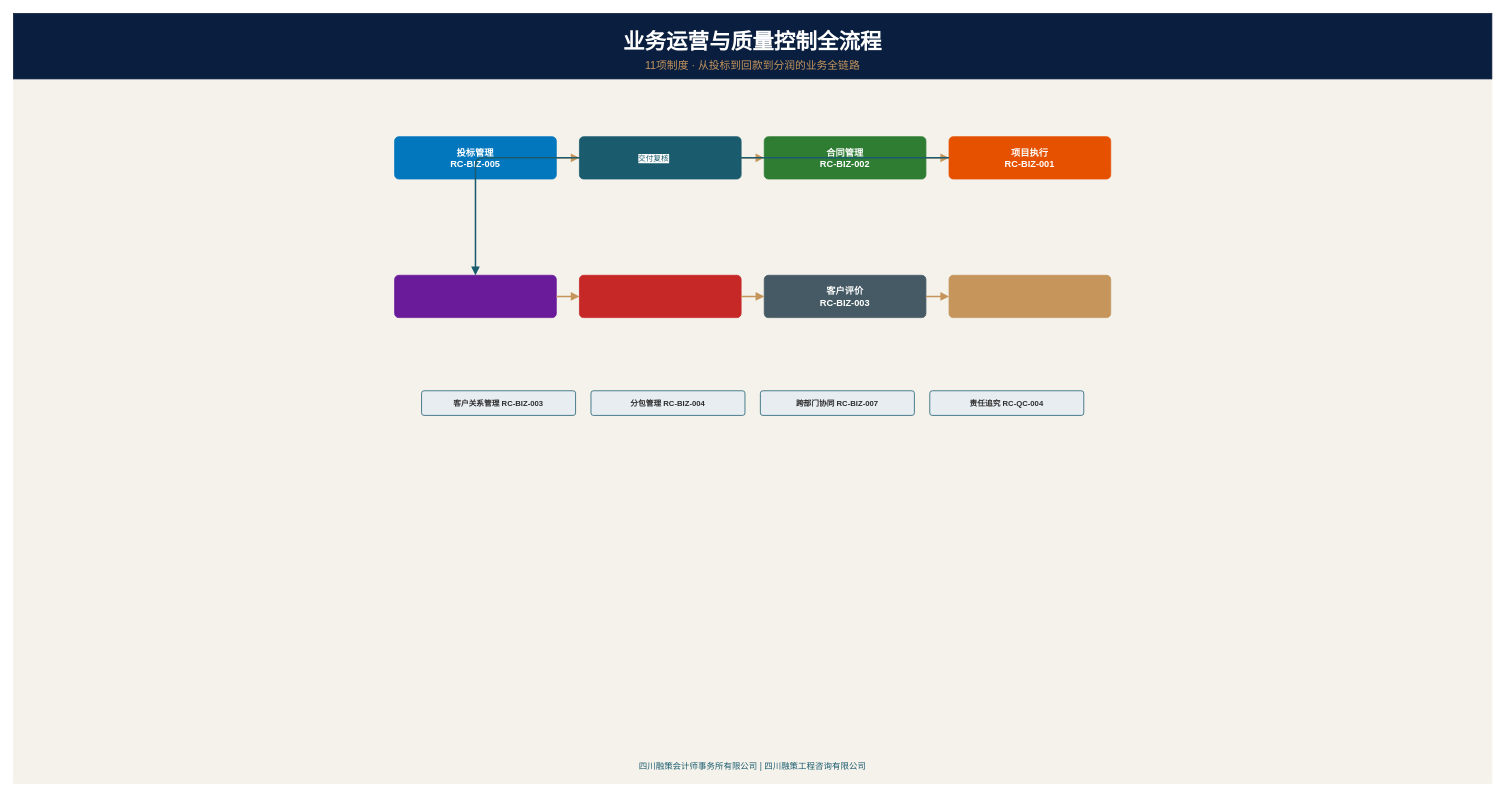
Image size: 1505x797. Some labels were removed from this diagram. Each missing label, with the centre of its shape:
三级复核 RC-QC-003: point 475,296
业务承接 RC-BIZ-002: point 660,157
回款分润 RC-BIZ-006: point 1029,296
质控检查 RC-QC-001: point 660,296
